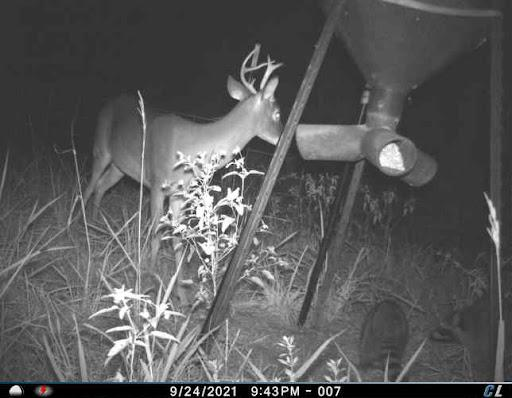Deer: (72, 45, 291, 319)
